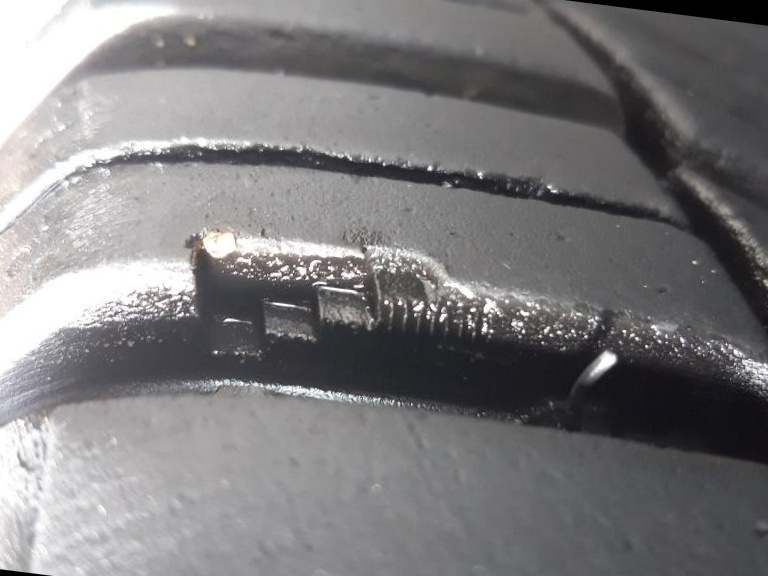temoin:80: (174, 215, 492, 412)
